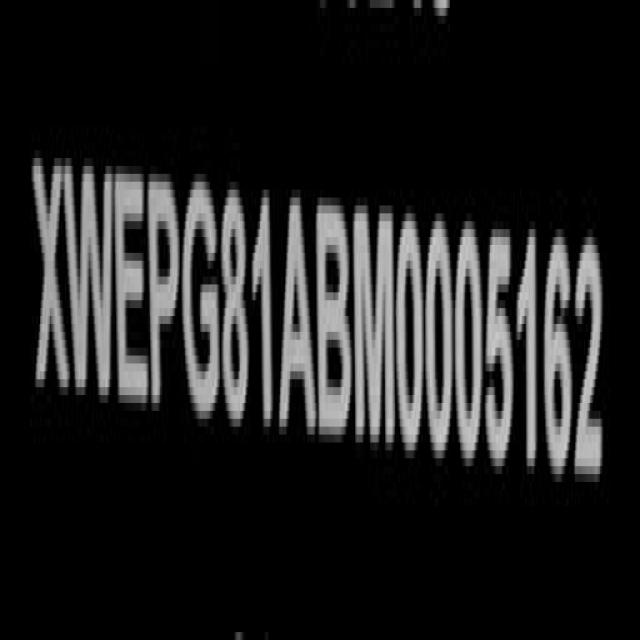0: (396, 204, 426, 466), (424, 208, 454, 469), (455, 213, 485, 471)
1: (253, 183, 277, 442), (517, 220, 540, 480)
2: (575, 228, 606, 491)
5: (485, 213, 513, 475)
6: (544, 222, 576, 482)
8: (219, 180, 250, 436)
A: (280, 188, 318, 445)
B: (318, 192, 352, 456)
E: (117, 150, 150, 420)
G: (180, 164, 222, 427)
M: (352, 195, 398, 460)
P: (144, 158, 179, 418)
W: (66, 148, 118, 417)
X: (32, 145, 72, 415)
